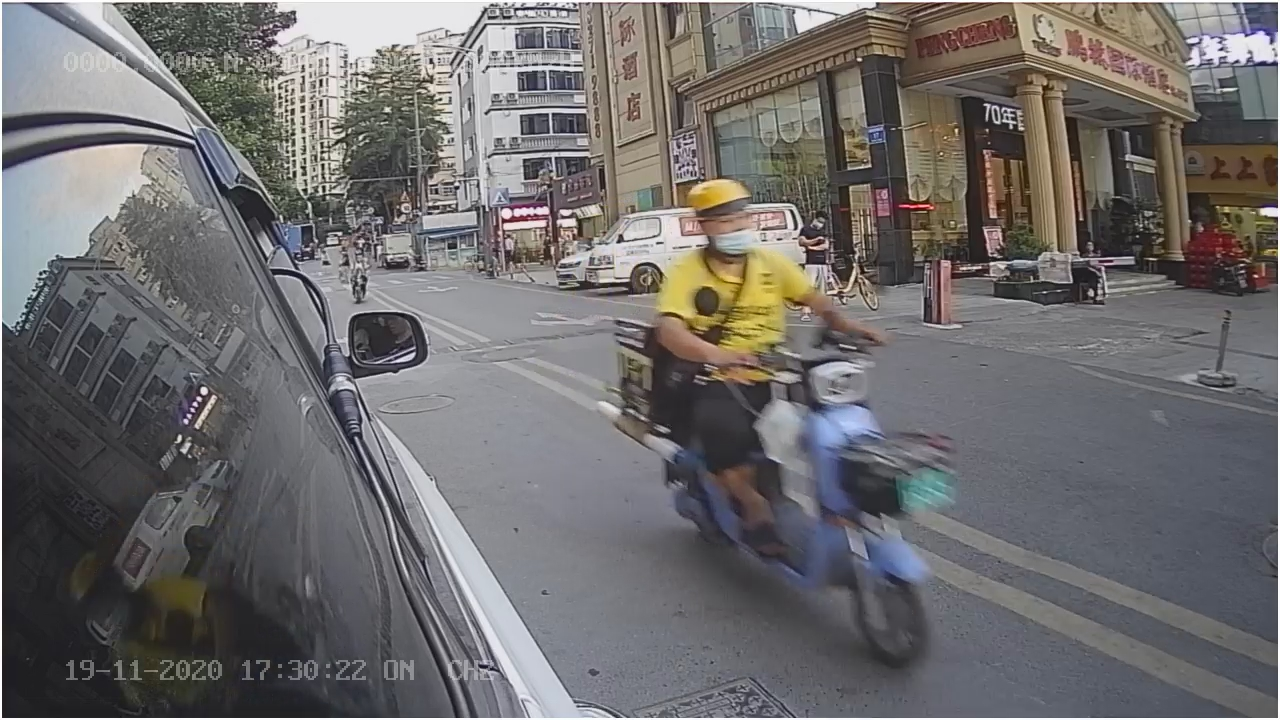person: (641, 175, 833, 356)
